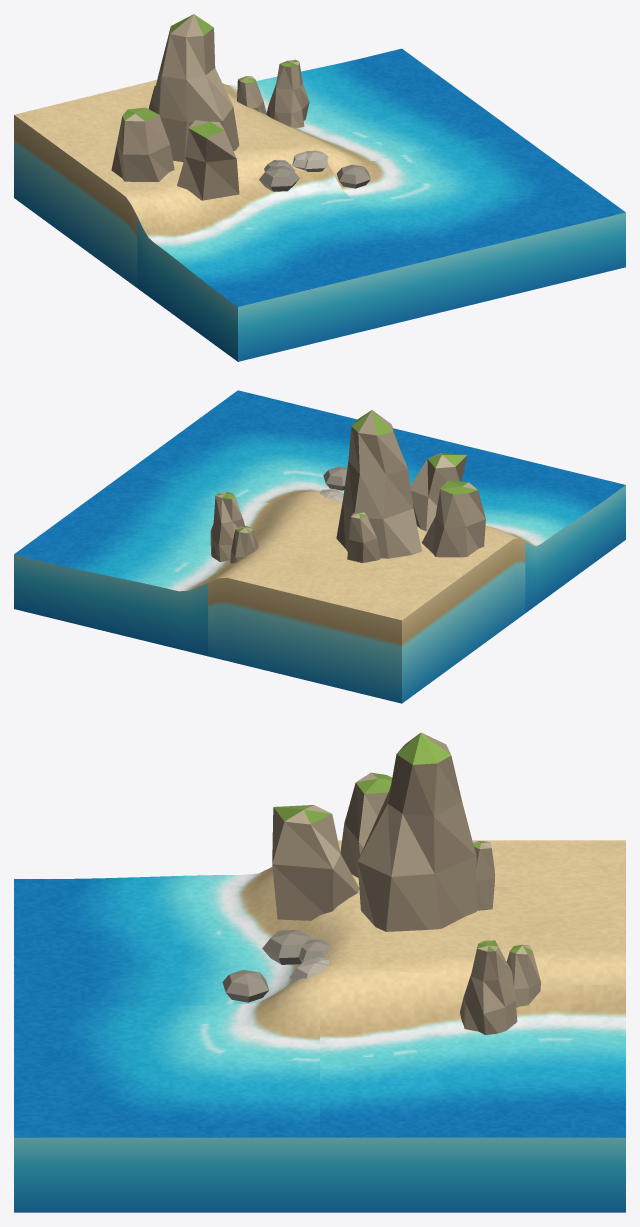
Rendered from Coast_Corner.obj.
3 views of the same model, one above another, from view 1: azimuth 30°, elevation 25°; view 2: azimuth 150°, elevation 25°; view 3: azimuth 270°, elevation 25° (orthographic). The views are drawn at different scales.
Visible parts, largest first — view 1: Coast_Corner_Coast_Corner_Terrain, Coast_Corner_Palette; view 2: Coast_Corner_Palette, Coast_Corner_Coast_Corner_Terrain; view 3: Coast_Corner_Coast_Corner_Terrain, Coast_Corner_Palette.
Boxes of the visible parts, left/top/right/bottom form: Coast_Corner_Coast_Corner_Terrain: left=14, top=48, right=625, bottom=306; Coast_Corner_Palette: left=14, top=14, right=625, bottom=361; Coast_Corner_Palette: left=14, top=410, right=625, bottom=703; Coast_Corner_Coast_Corner_Terrain: left=14, top=390, right=625, bottom=620; Coast_Corner_Coast_Corner_Terrain: left=14, top=840, right=625, bottom=1137; Coast_Corner_Palette: left=14, top=732, right=625, bottom=1212.
Bounding box in the file's own units: 4 × 2.1 × 4.
2 materials, 2 textured.
